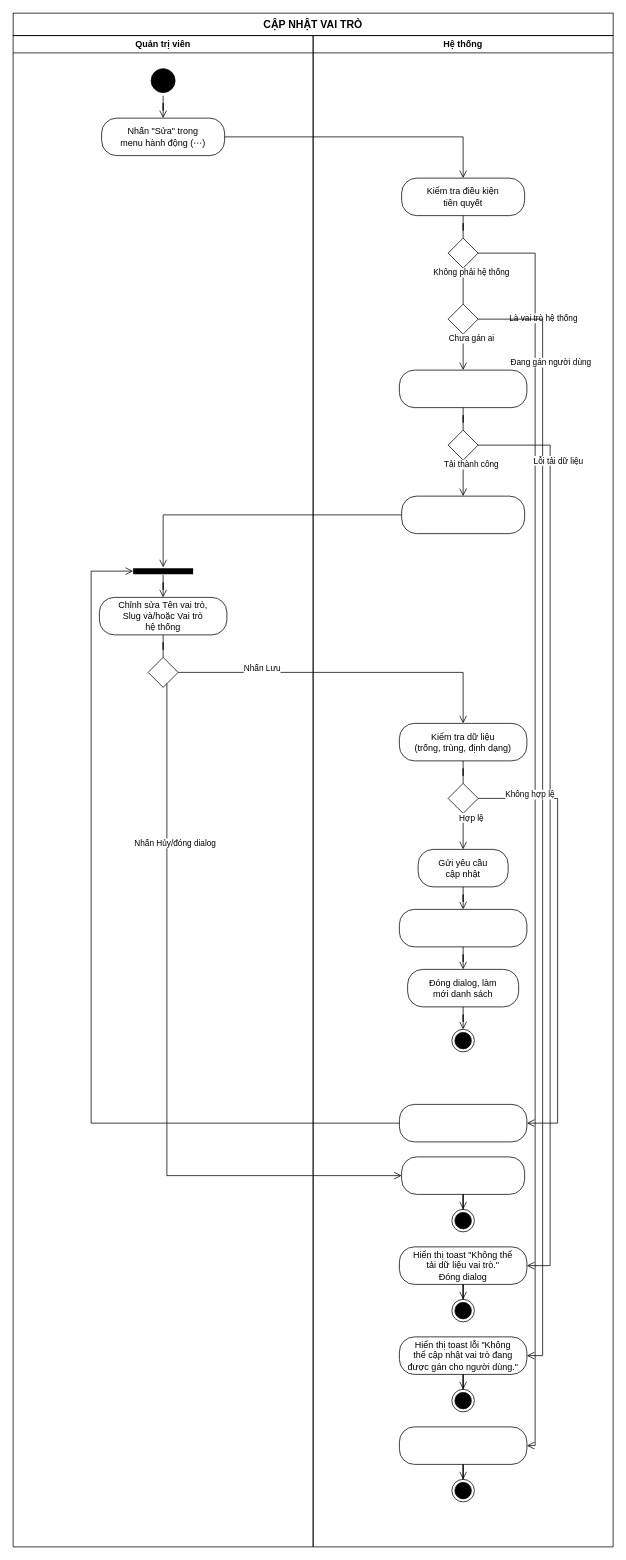
The diagram is 626 pixels wide and 1560 high, and some of its shapes have lost their labels. Each missing label, with the centre of its shape:
Hiển thị lỗi tương ứng dưới từng trường: (463,1123)
Hiển thị toast "Cập nhật vai trò thành công.": (463,928)
Hiển thị toast lỗi "Không thể sửa vai trò hệ thống.": (463,1445)
Mở dialog "Cập nhật vai trò", tải dữ liệu: (463,388)
Điền sẵn thông tin hiện tại vào form: (463,514)
Đóng dialog, không lưu thay đổi: (463,1175)
